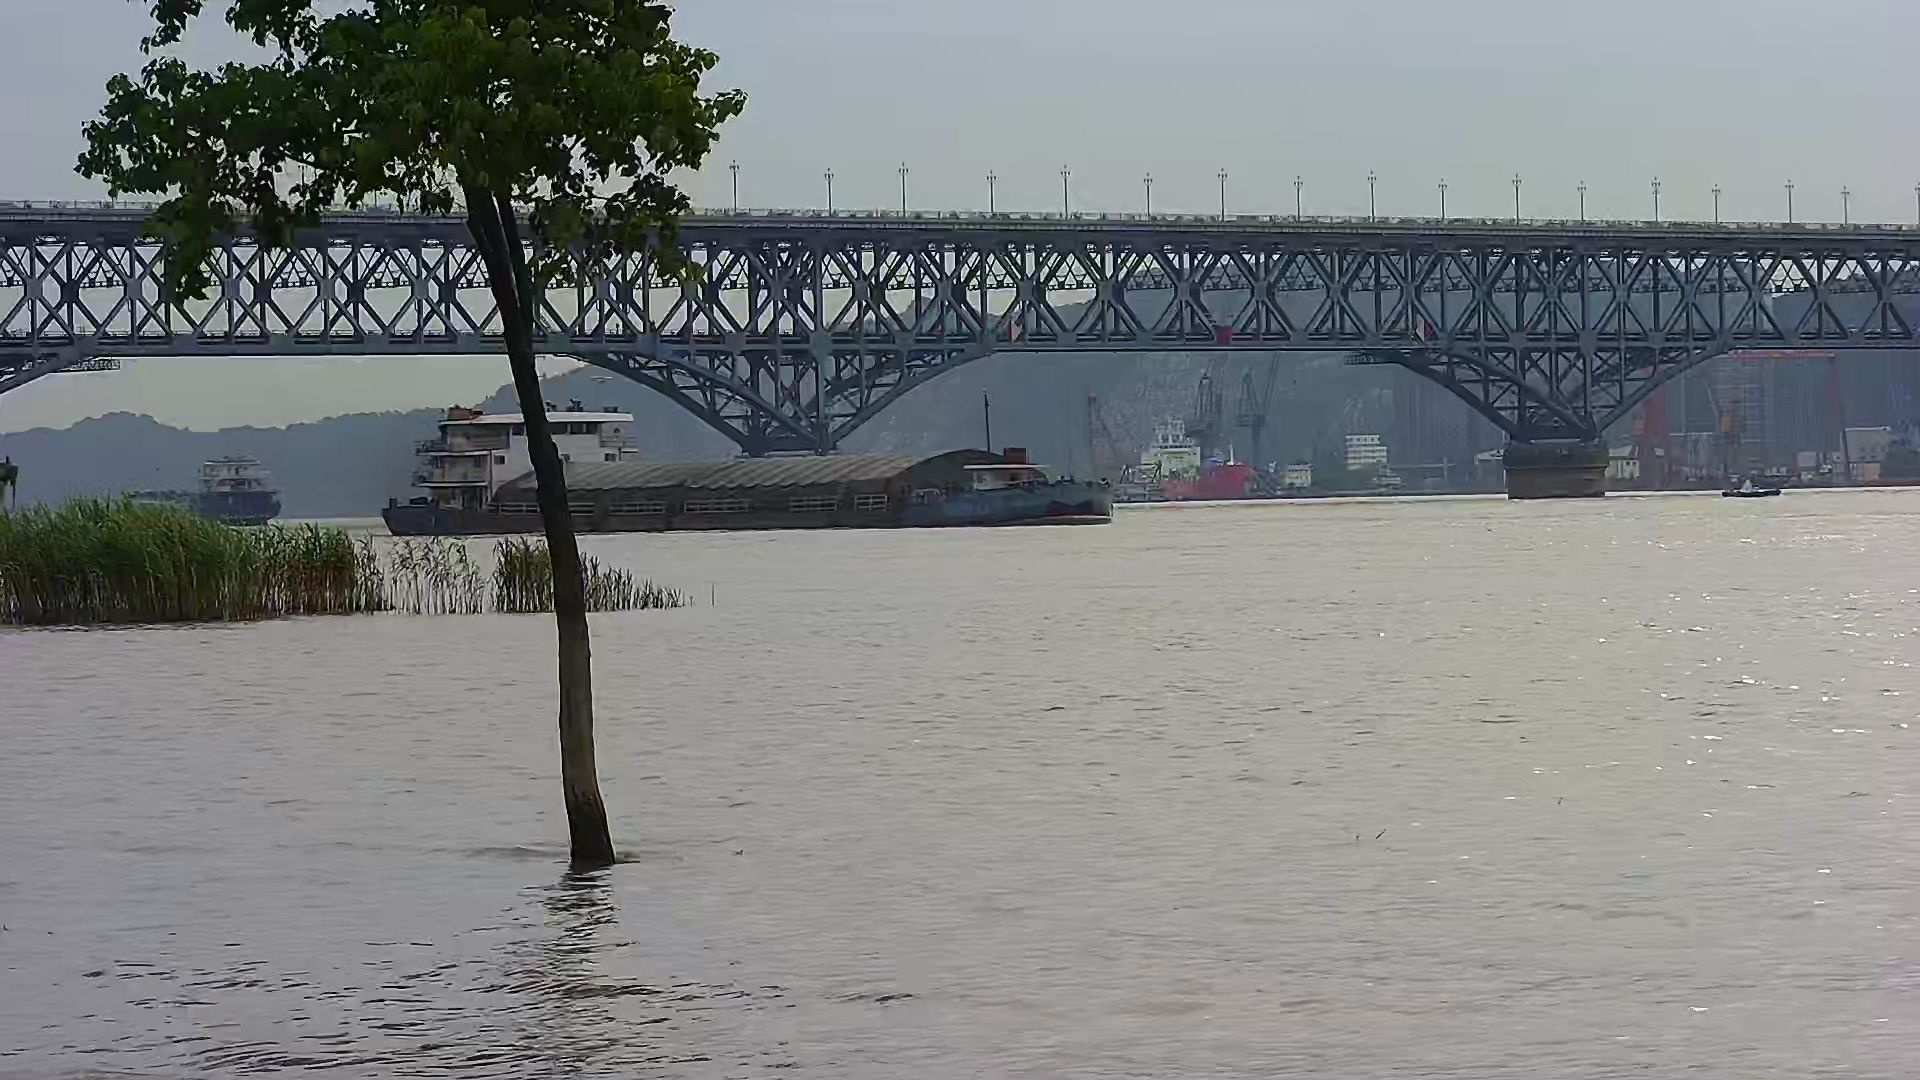boat: (1718, 473, 1780, 498)
bridge: (3, 189, 1920, 497)
grass: (1, 500, 700, 632)
harbor: (1062, 353, 1335, 498), (1634, 352, 1862, 488)
ship: (385, 405, 1109, 531), (112, 462, 284, 524)
tree: (76, 1, 735, 880)
